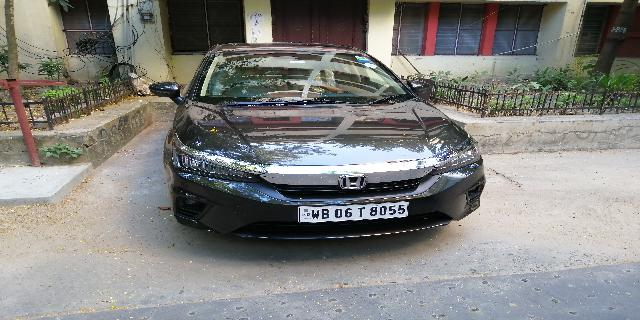Car: (150, 38, 489, 250)
